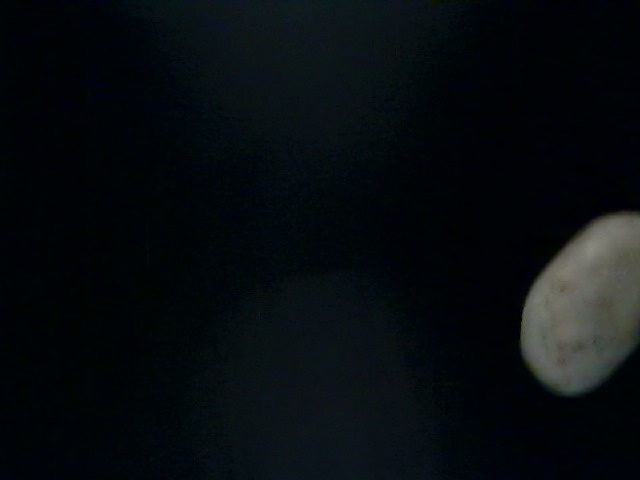QTLJ: (148, 403, 320, 480)
